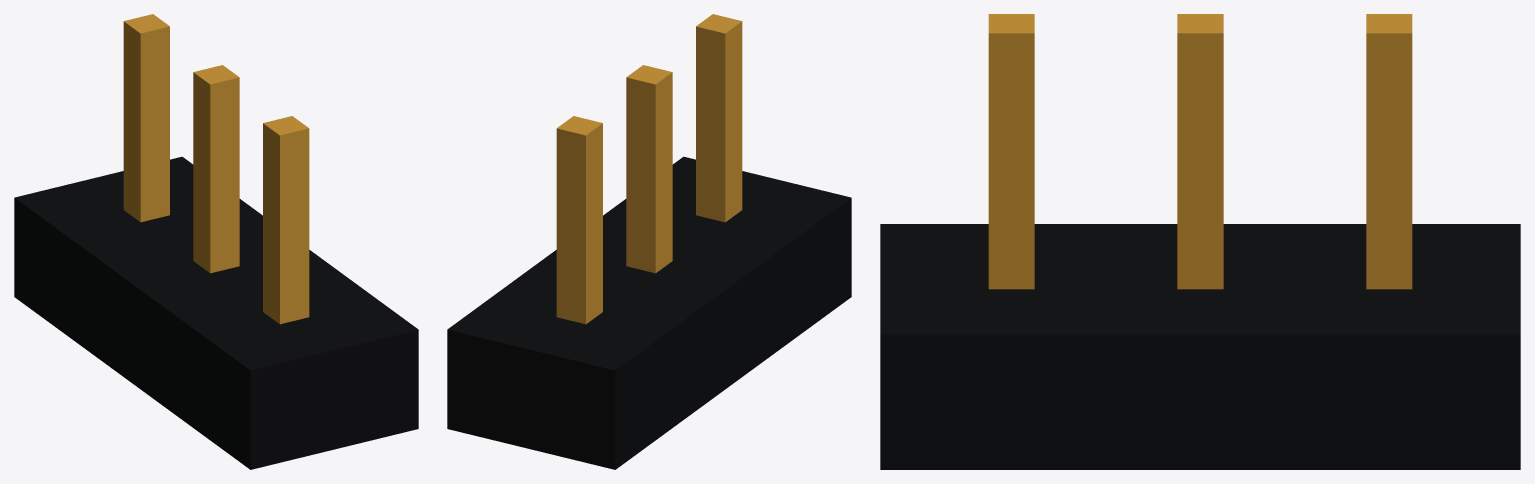
File: L131_ADDR_LED3.fbx
3 views of the same model, side by side, from view 1: azimuth 30°, elevation 25°; view 2: azimuth 150°, elevation 25°; view 3: azimuth 270°, elevation 25° (orthographic). The views are drawn at different scales.
Visible parts, largest first — view 1: ADDR_LED3_Black, ADDR_LED3_Gold; view 2: ADDR_LED3_Black, ADDR_LED3_Gold; view 3: ADDR_LED3_Black, ADDR_LED3_Gold.
Part boxes in pixels (left/top/right/bottom): ADDR_LED3_Black: left=14, top=156, right=418, bottom=469; ADDR_LED3_Gold: left=123, top=14, right=309, bottom=324; ADDR_LED3_Black: left=447, top=156, right=851, bottom=469; ADDR_LED3_Gold: left=556, top=14, right=742, bottom=324; ADDR_LED3_Black: left=880, top=224, right=1520, bottom=469; ADDR_LED3_Gold: left=988, top=14, right=1412, bottom=289.
Bounding box in the file's own units: 0.354 × 0.58 × 0.862.
